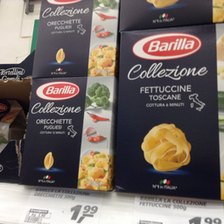pasta: (119, 24, 224, 200), (19, 78, 117, 190), (32, 1, 118, 76)
